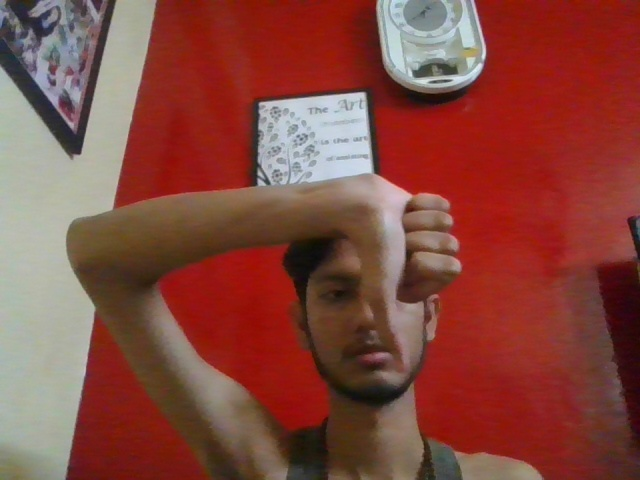ThumbsDown: (359, 172, 463, 372)
